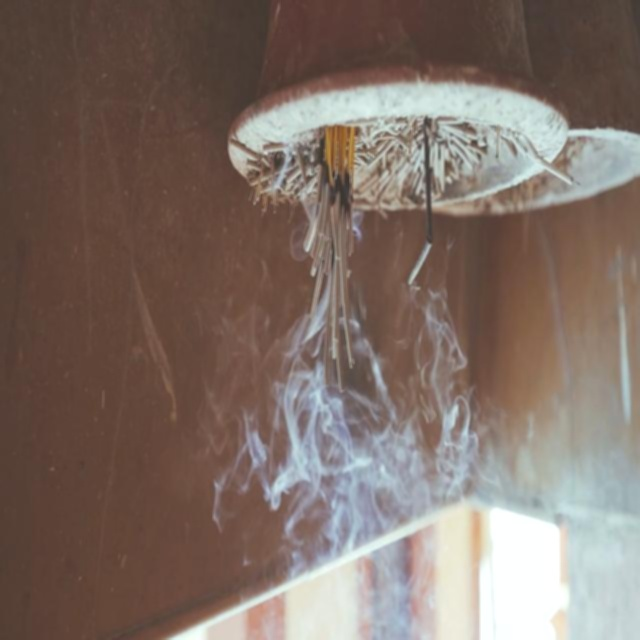smoke: (258, 348, 490, 556)
